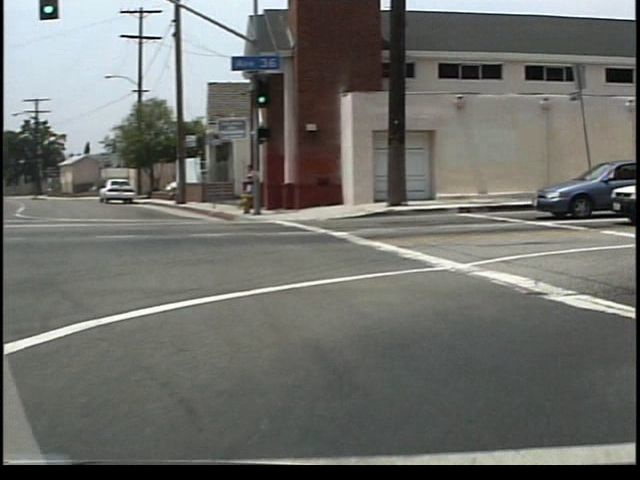person: (250, 165, 268, 215)
